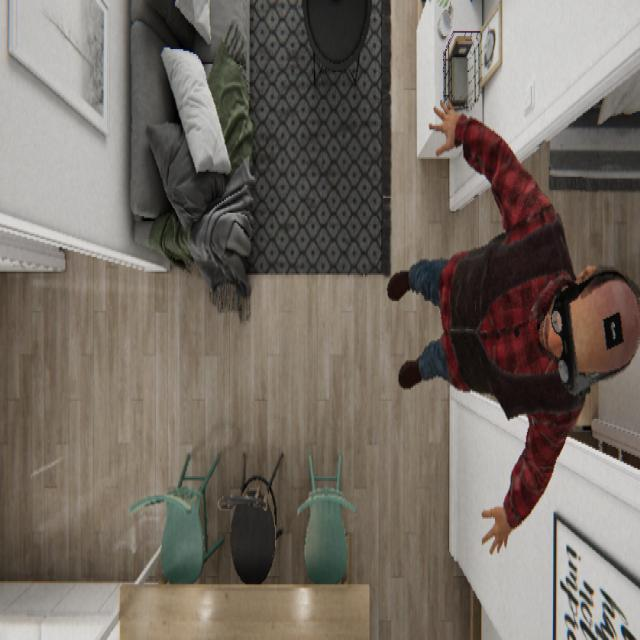Human: (386, 95, 638, 555)
UnityLogo: (602, 308, 624, 350)
